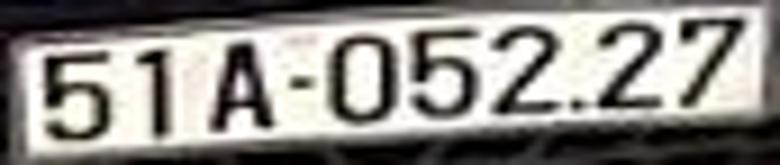-: (289, 73, 317, 89)
.: (569, 98, 584, 113)
0: (326, 35, 397, 123)
1: (132, 48, 175, 138)
2: (491, 25, 557, 115), (598, 22, 662, 106)
5: (44, 52, 113, 139), (414, 29, 476, 119)
7: (678, 17, 748, 103)
A: (211, 41, 272, 133)
